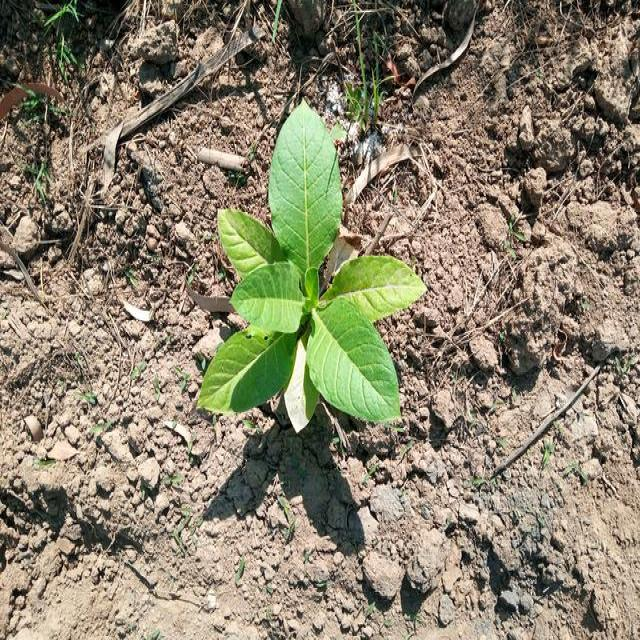crop: (192, 104, 416, 445)
